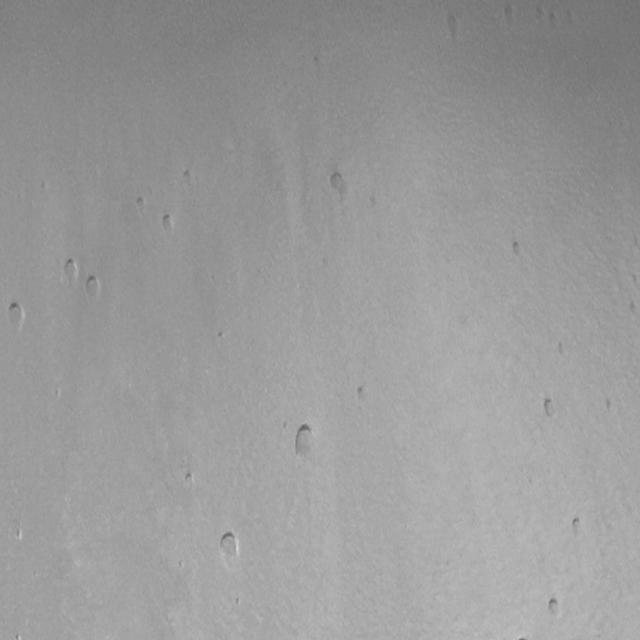pin holes: (291, 422, 318, 460), (215, 530, 241, 567), (325, 170, 351, 205), (442, 11, 466, 43), (3, 300, 26, 333), (538, 395, 560, 421), (60, 256, 79, 286), (545, 596, 566, 622), (567, 514, 587, 541), (158, 213, 178, 239), (84, 274, 102, 302), (497, 2, 517, 26), (353, 383, 371, 406), (601, 395, 618, 418), (548, 7, 565, 30), (181, 166, 197, 186), (510, 238, 525, 258), (133, 194, 148, 213), (185, 469, 198, 490), (232, 593, 245, 608), (14, 526, 26, 542), (217, 329, 230, 343), (14, 630, 25, 640)
